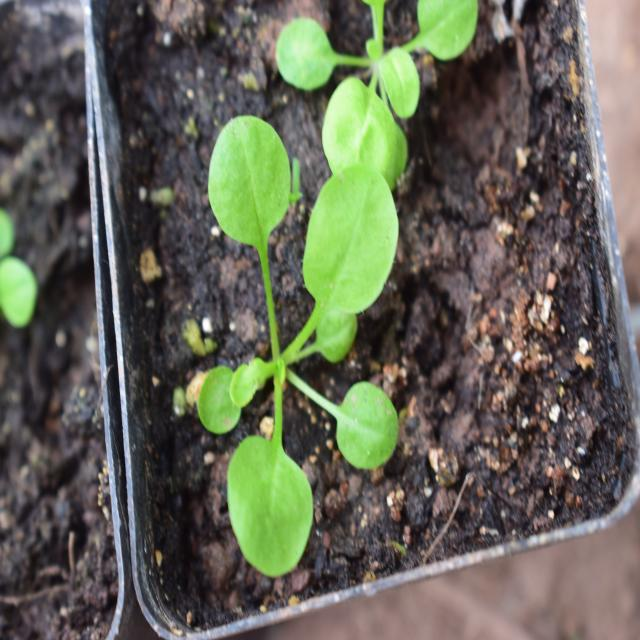Shepherd_Purse: (207, 125, 412, 576)
